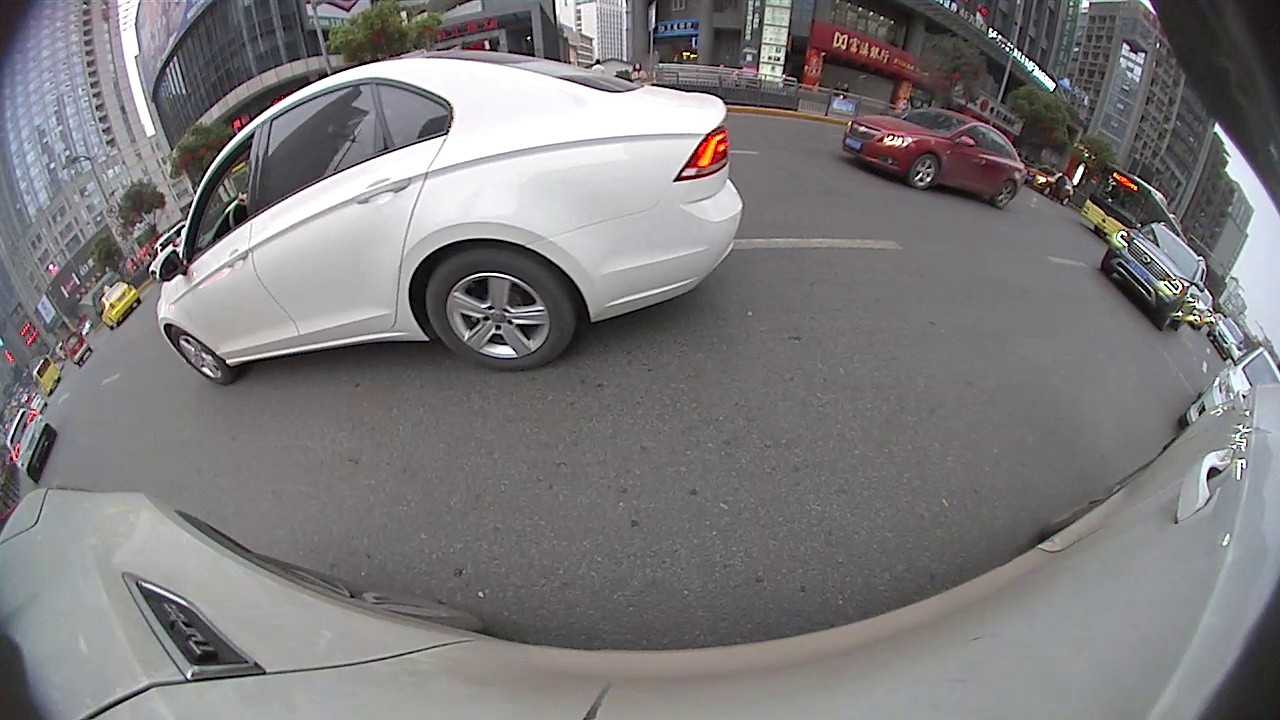car: (993, 180, 1238, 493), (685, 50, 861, 182), (583, 55, 632, 95)
front: (1167, 446, 1217, 492)
person: (283, 50, 353, 228), (457, 51, 480, 110), (403, 75, 433, 116), (265, 97, 288, 144), (422, 47, 443, 97), (678, 50, 695, 102), (644, 50, 660, 102), (243, 113, 262, 146)
rear: (1034, 293, 1103, 366), (685, 100, 706, 131)
